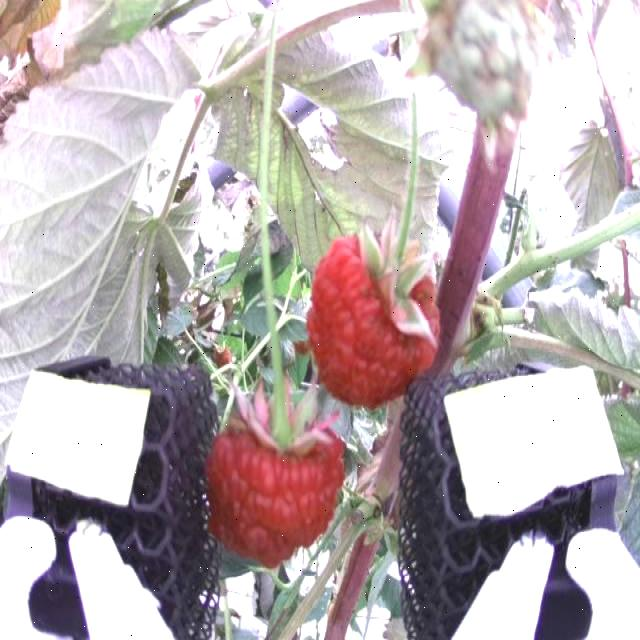Riped berries: (212, 390, 346, 564), (307, 225, 440, 396)
